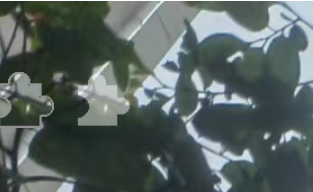target: (75, 71, 131, 128)
